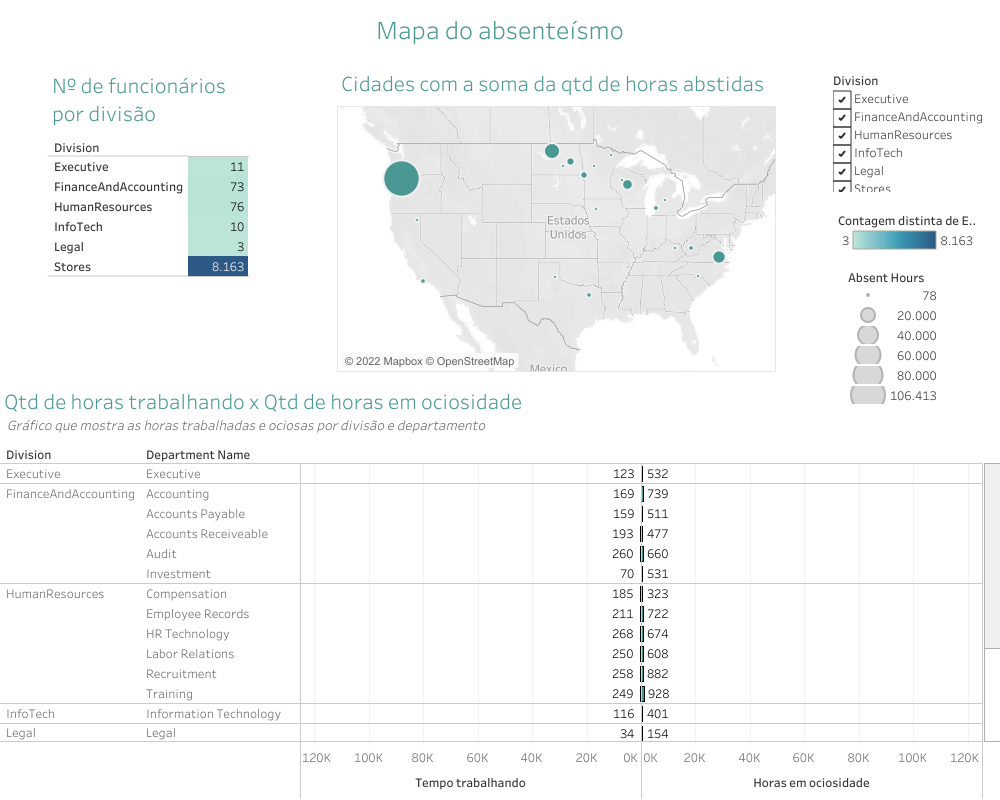

The page's visual inventory and layout, read from the dashboard file:
{"tool":"tableau","page":{"name":"Painel 1","canvas":[1000,800],"ordinal":0},"visuals":[{"type":"title","box":[8,8,984,42]},{"type":"worksheet","title":"Planilha 4","mark":"Automatic","box":[337,63,439,309]},{"type":"worksheet","title":"Planilha 3","mark":"Square","rows":["Division"],"box":[48,65,296,266]},{"type":"filter","title":"Sheet 1","param":"[federated.0dhp26j0rkyb0e1a2mhf31huegy2].[none:Division:nk]","box":[833,70,160,122]},{"type":"legend","title":"Planilha 3","param":"[federated.0dhp26j0rkyb0e1a2mhf31huegy2].[ctd:EmployeeNumber:qk]","box":[838,207,140,80]},{"type":"legend","title":"Planilha 4","param":"[federated.0dhp26j0rkyb0e1a2mhf31huegy2].[sum:AbsentHours:qk]","box":[847,266,140,210]},{"type":"worksheet","title":"Sheet 1","mark":"Automatic","rows":["Division","DepartmentName"],"cols":["LengthService","AbsentHours"],"box":[0,381,1002,418]}]}

Visuals, with their boxes in screenshot pixels (x1, y1, x2, y2), scaled from the page's 1000x800 canvas onto the 1000x800 screenshot:
title: rect(8, 8, 992, 50)
"Planilha 4" worksheet: rect(337, 63, 776, 372)
"Planilha 3" worksheet (Square marks): rect(48, 65, 344, 331)
"Sheet 1" filter: rect(833, 70, 993, 192)
"Planilha 3" legend: rect(838, 207, 978, 287)
"Planilha 4" legend: rect(847, 266, 987, 476)
"Sheet 1" worksheet: rect(0, 381, 999, 799)
